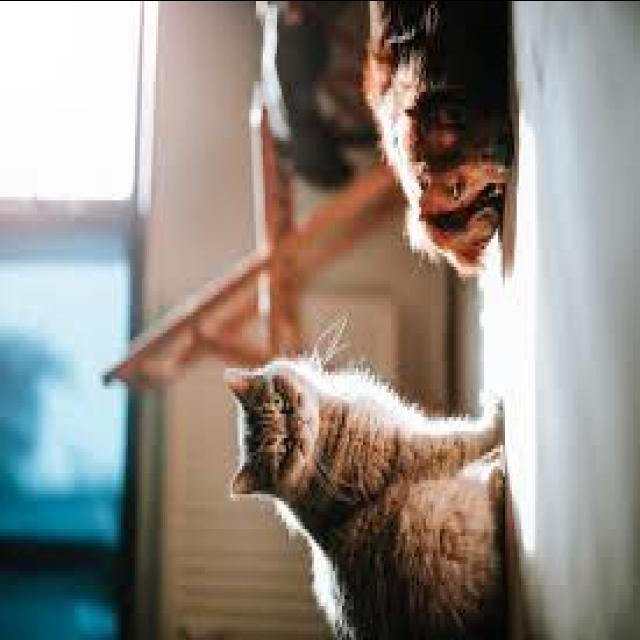cat: (212, 339, 509, 640)
dog: (358, 0, 527, 263)
